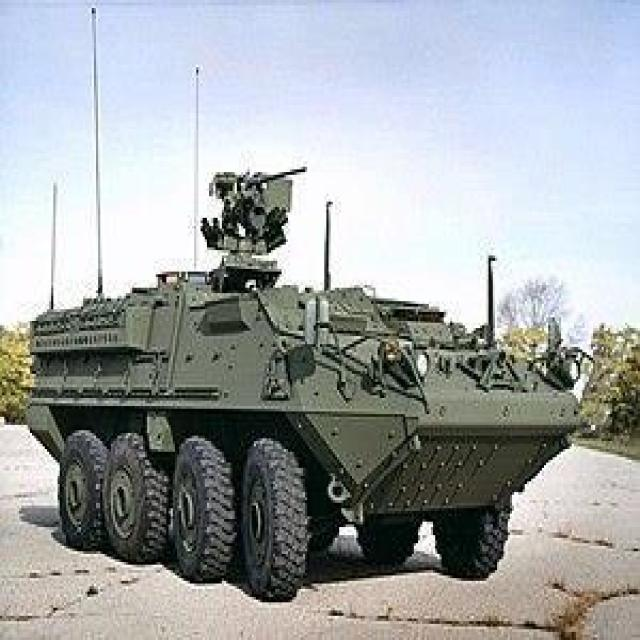Tanks: (15, 165, 570, 585)
